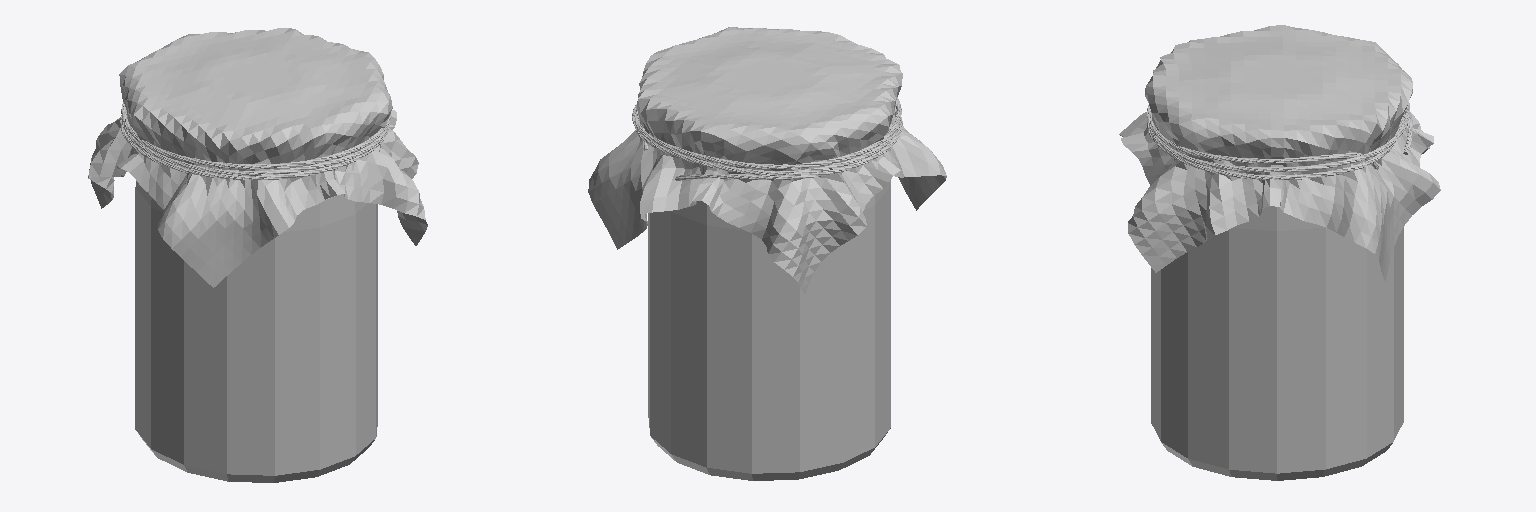
Rendered from jar.obj.
The picture shows the model from 3 angles: view 1: azimuth 30°, elevation 25°; view 2: azimuth 150°, elevation 25°; view 3: azimuth 270°, elevation 25°; orthographic projection.
Visible parts, largest first — view 1: jar_cloth:polySurface10 polySurface7, polySurface5 jar_cloth:polySurface10, jar_cloth:polySurface10 polySurface6; view 2: jar_cloth:polySurface10 polySurface7, polySurface5 jar_cloth:polySurface10, jar_cloth:polySurface10 polySurface6; view 3: jar_cloth:polySurface10 polySurface7, polySurface5 jar_cloth:polySurface10, jar_cloth:polySurface10 polySurface6.
Boxes of the visible parts, x1=… form: jar_cloth:polySurface10 polySurface7: x1=135, y1=181, x2=377, y2=482; polySurface5 jar_cloth:polySurface10: x1=88, y1=28, x2=427, y2=287; jar_cloth:polySurface10 polySurface6: x1=120, y1=102, x2=390, y2=179; jar_cloth:polySurface10 polySurface7: x1=648, y1=180, x2=890, y2=480; polySurface5 jar_cloth:polySurface10: x1=588, y1=27, x2=946, y2=293; jar_cloth:polySurface10 polySurface6: x1=632, y1=97, x2=902, y2=180; jar_cloth:polySurface10 polySurface7: x1=1151, y1=206, x2=1403, y2=480; polySurface5 jar_cloth:polySurface10: x1=1119, y1=25, x2=1440, y2=281; jar_cloth:polySurface10 polySurface6: x1=1147, y1=103, x2=1412, y2=179.
Size of the model in its own units: 6.07 by 7.67 by 6.22.